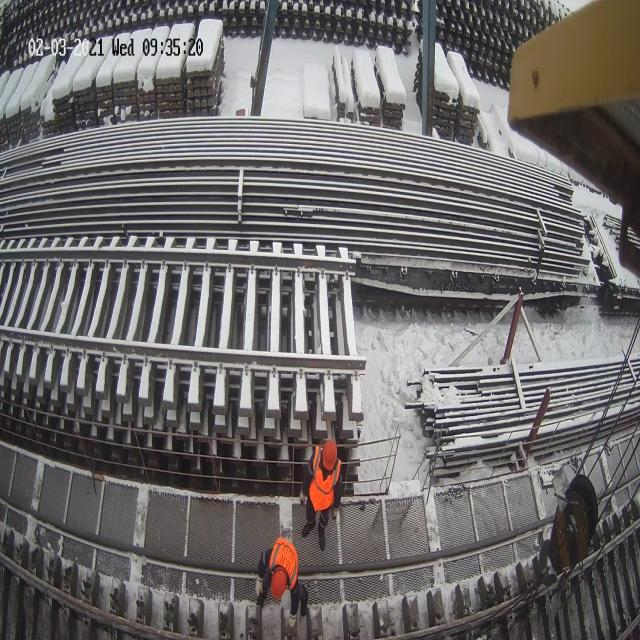Helmet: (269, 537, 298, 591), (270, 569, 286, 600), (322, 439, 337, 471)
Person: (251, 537, 309, 628), (300, 439, 342, 552)
